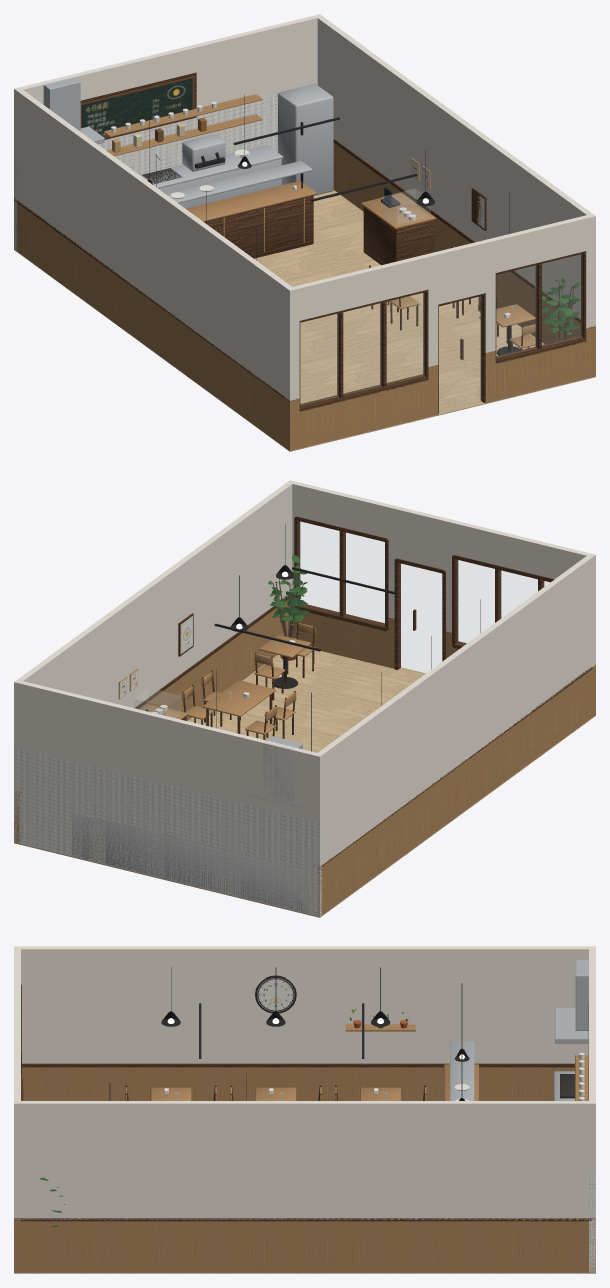
The model's file is wz_brunch_interior.glb.
3 renders of one model, top to bottom at view 1: azimuth 30°, elevation 25°; view 2: azimuth 150°, elevation 25°; view 3: azimuth 270°, elevation 25°, orthographic. The views are drawn at different scales.
Visible parts, largest first — view 1: WALL_left_left_paint, WALL_right_right_paint, WALL_front_front_glass, wzs_floor, WALL_front_front_paint, WALL_left_left_wood_lt, WALL_back_back_paint, wzs_steel, WALL_front_front_wood_lt, wzs_wood_dk, WALL_front_front_wood_dk, WALL_back_back_tile (+13 smaller); view 2: WALL_left_left_paint, WALL_back_back_tile, WALL_right_right_paint, WALL_back_back_paint, WALL_front_front_glass, WALL_left_left_wood_lt, WALL_front_front_paint, wzs_floor, wzs_steel, WALL_front_front_wood_dk, WALL_right_right_wood_lt, wzs_wood_lt (+10 smaller); view 3: WALL_right_right_paint, WALL_left_left_paint, WALL_right_right_wood_lt, WALL_left_left_wood_lt, WALL_left_left_wood_dk, WALL_right_right_wood_dk, wzs_wood_lt, WALL_front_front_paint, WALL_back_back_steel, WALL_back_back_paint, wzs_steel, WALL_left_clock (+4 smaller).
Part boxes in pixels (bbox=[...]): WALL_left_left_paint: bbox=[14, 88, 295, 399]; WALL_right_right_paint: bbox=[314, 14, 595, 326]; WALL_front_front_glass: bbox=[301, 255, 581, 410]; wzs_floor: bbox=[14, 190, 595, 451]; WALL_front_front_paint: bbox=[287, 213, 595, 400]; WALL_left_left_wood_lt: bbox=[14, 201, 295, 449]; WALL_back_back_paint: bbox=[14, 14, 322, 155]; wzs_steel: bbox=[140, 83, 333, 208]; WALL_front_front_wood_lt: bbox=[287, 326, 595, 450]; wzs_wood_dk: bbox=[204, 195, 529, 352]; WALL_front_front_wood_dk: bbox=[299, 251, 586, 413]; WALL_back_back_tile: bbox=[14, 83, 317, 250]; WALL_left_left_paint: bbox=[314, 553, 595, 866]; WALL_back_back_tile: bbox=[14, 747, 322, 916]; WALL_right_right_paint: bbox=[14, 481, 294, 792]; WALL_back_back_paint: bbox=[14, 680, 323, 821]; WALL_front_front_glass: bbox=[299, 522, 548, 673]; WALL_left_left_wood_lt: bbox=[314, 669, 595, 915]; WALL_front_front_paint: bbox=[287, 480, 595, 666]; wzs_floor: bbox=[14, 650, 595, 917]; wzs_steel: bbox=[72, 813, 309, 913]; WALL_front_front_wood_dk: bbox=[294, 516, 554, 669]; WALL_right_right_wood_lt: bbox=[14, 597, 292, 843]; wzs_wood_lt: bbox=[139, 623, 315, 734]; WALL_right_right_paint: bbox=[14, 1101, 595, 1219]; WALL_left_left_paint: bbox=[14, 946, 595, 1063]; WALL_right_right_wood_lt: bbox=[14, 1219, 595, 1272]; WALL_left_left_wood_lt: bbox=[22, 1024, 574, 1100]; WALL_left_left_wood_dk: bbox=[22, 1063, 574, 1067]; WALL_right_right_wood_dk: bbox=[14, 1218, 595, 1221]; wzs_wood_lt: bbox=[125, 1064, 478, 1100]; WALL_front_front_paint: bbox=[14, 946, 20, 1219]; WALL_back_back_steel: bbox=[555, 960, 588, 1043]; WALL_back_back_paint: bbox=[589, 946, 595, 1172]; wzs_steel: bbox=[450, 1041, 574, 1100]; WALL_left_clock: bbox=[257, 978, 294, 1011].
Bounding box in the file's own units: 6.48 × 3.22 × 10.
25 materials, 9 textured.
